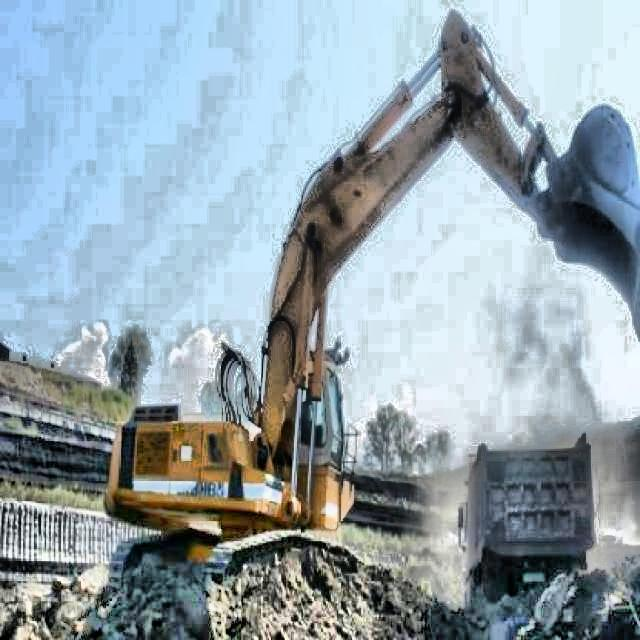dump_truck: (457, 429, 594, 606)
excavator: (104, 6, 640, 598)
